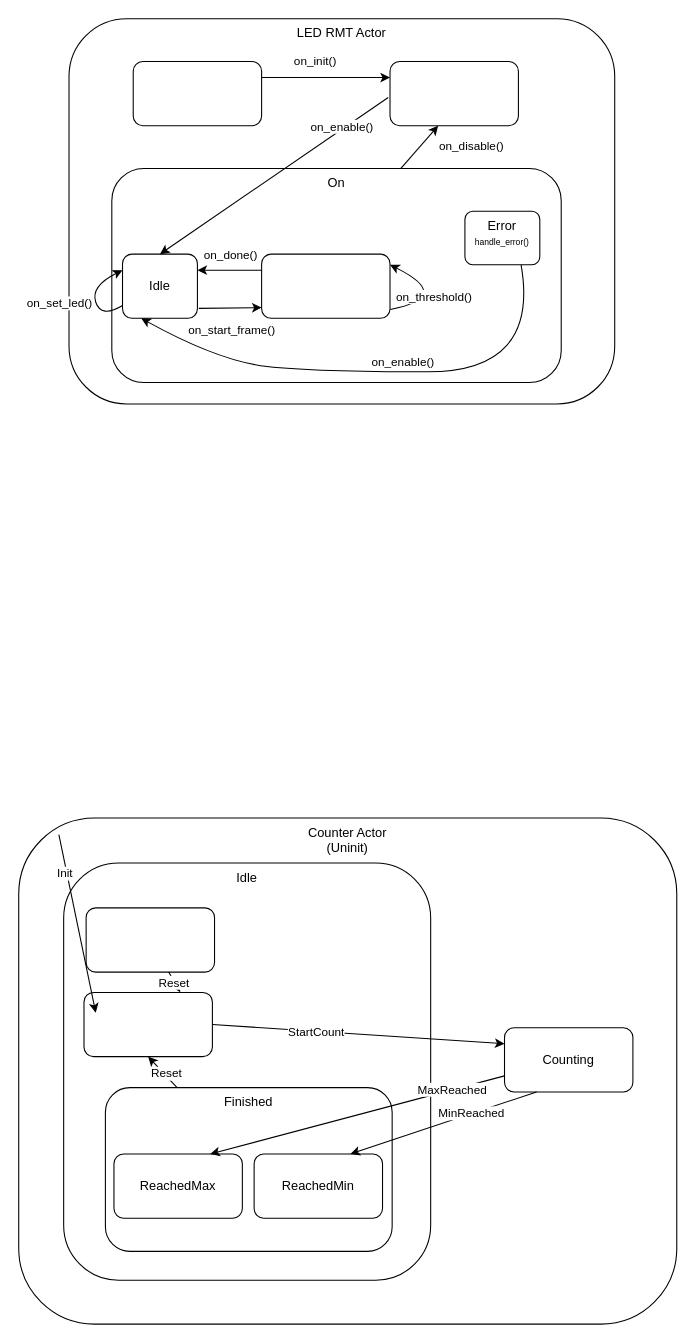
This 696x1343 diagram has some shape labels left out. The shapes that lost their labels are listed below. From the top down, each one's centre as x and y in pixels, then its label:
(197,93): Uninit
(453,93): Off
(325,285): Transmitting on_entry() = start RMT on_exit() = clear item count
(150,939): Error
(147,1024): NotStarted
